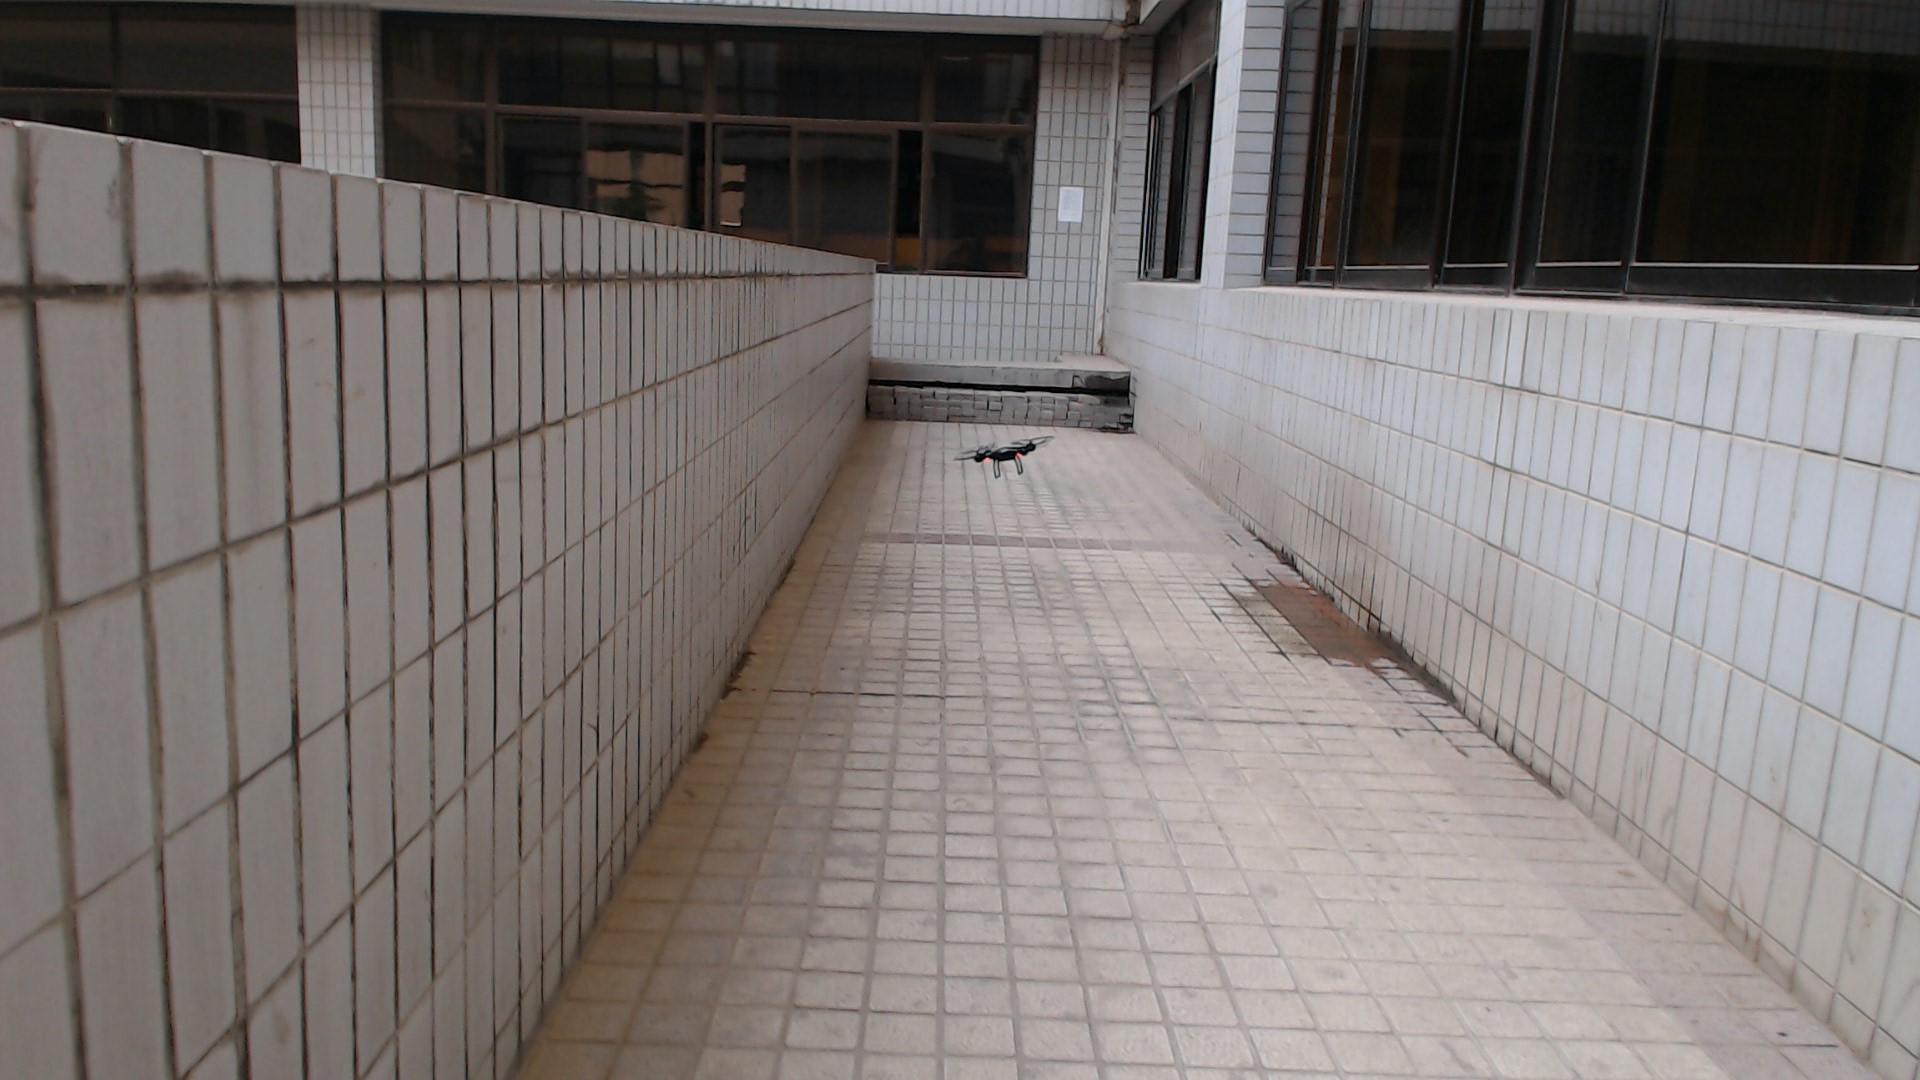drone: (942, 407, 1080, 491)
